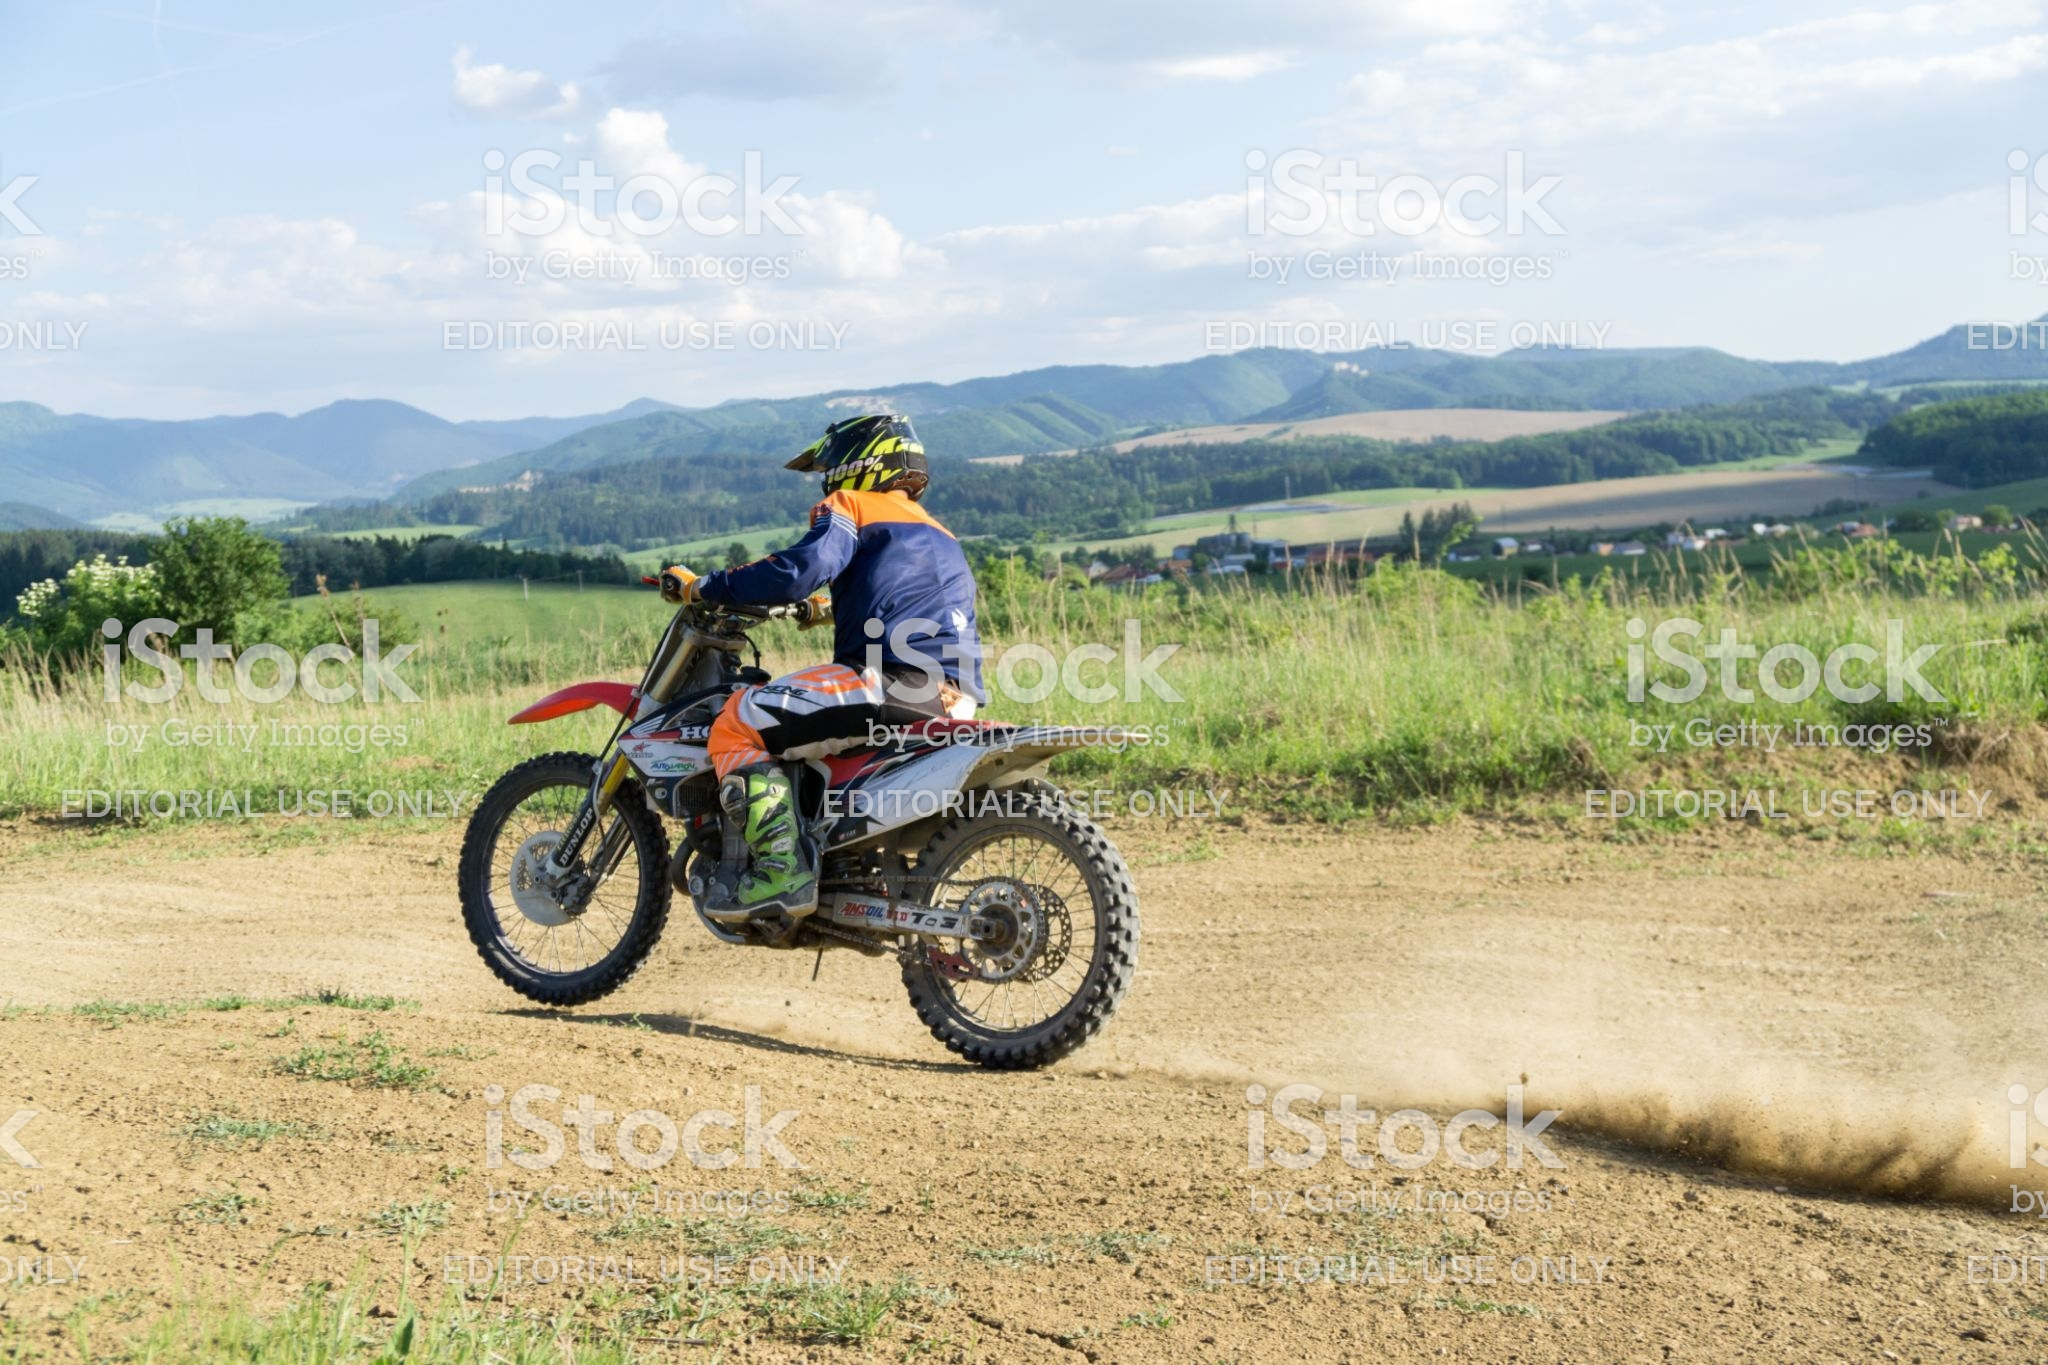helmet: (781, 408, 946, 510)
